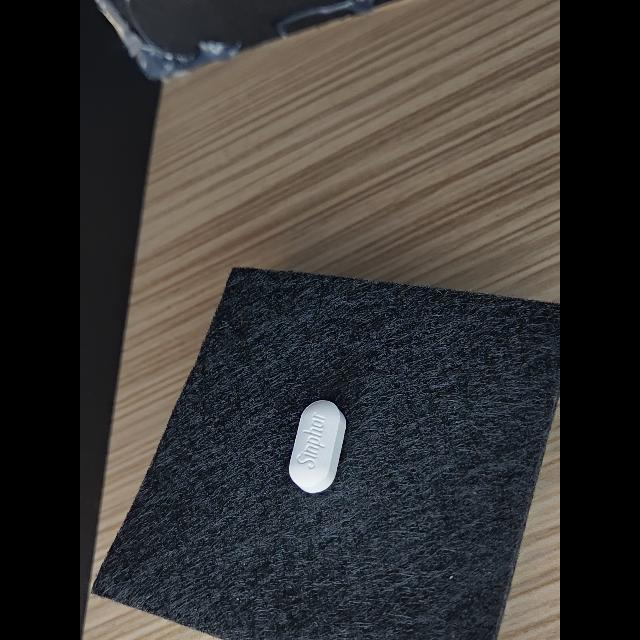Intact Pill: (289, 400, 346, 493)
